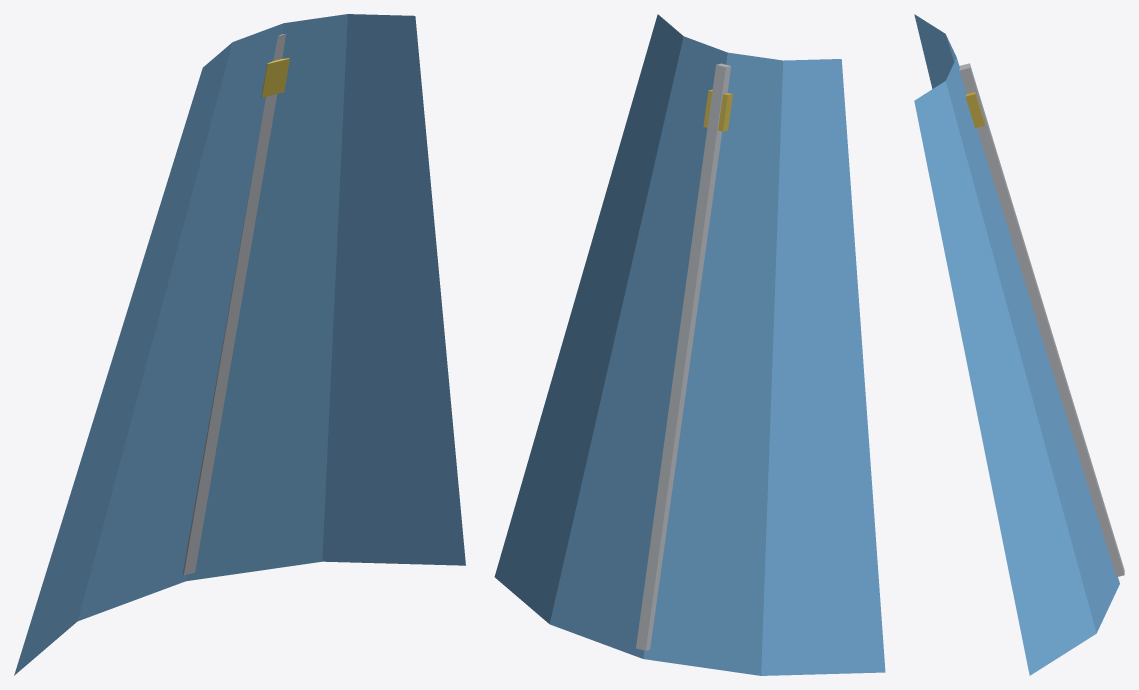
Rendered from giant_doll_flap.glb.
3 renders of one model, left to right at view 1: azimuth 30°, elevation 25°; view 2: azimuth 150°, elevation 25°; view 3: azimuth 270°, elevation 25°, orthographic. The views are drawn at different scales.
Visible parts, largest first — view 1: flap_giant_dress, zipper_zipper_steel, zipper_zipper_pull; view 2: flap_giant_dress, zipper_zipper_steel, zipper_zipper_pull; view 3: flap_giant_dress, zipper_zipper_steel, zipper_zipper_pull.
Boxes of the visible parts, x1,y1,x2,y2 form: flap_giant_dress: (14, 14, 465, 675); zipper_zipper_steel: (182, 34, 285, 575); zipper_zipper_pull: (261, 58, 289, 97); flap_giant_dress: (494, 14, 885, 675); zipper_zipper_steel: (636, 63, 731, 650); zipper_zipper_pull: (703, 89, 732, 131); flap_giant_dress: (914, 14, 1119, 675); zipper_zipper_steel: (959, 63, 1124, 577); zipper_zipper_pull: (965, 92, 984, 128).
Size of the model in its own units: 1.2 by 1.6 by 0.58.
